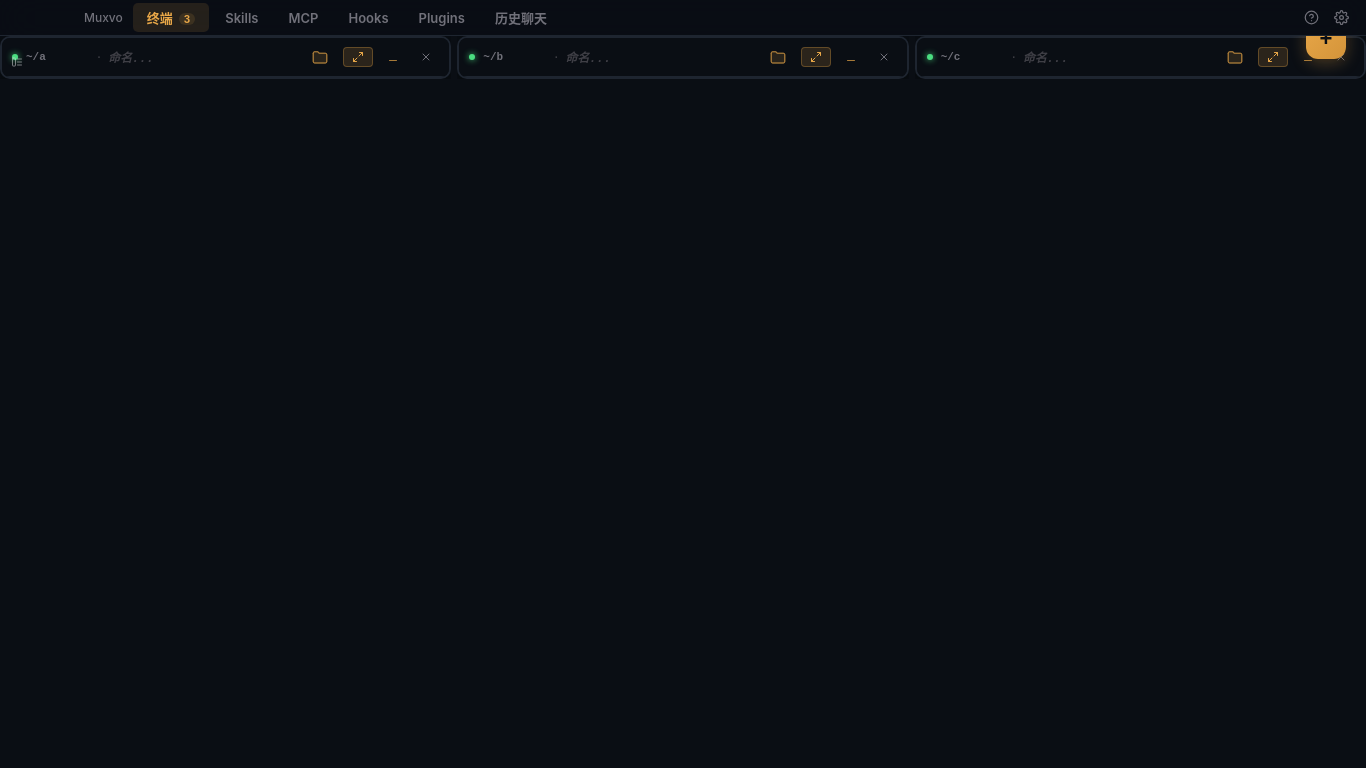
it: LiveChrome 配置面板路由（M6 批1） › CONFIG_L1_19: 终端态无 overlay，点配置 tab → overlay 挂载 + activeTab 高亮
Click the button with class "menu-bar__tab" showing "Skills" at (242, 18), box [211, 3, 272, 32]
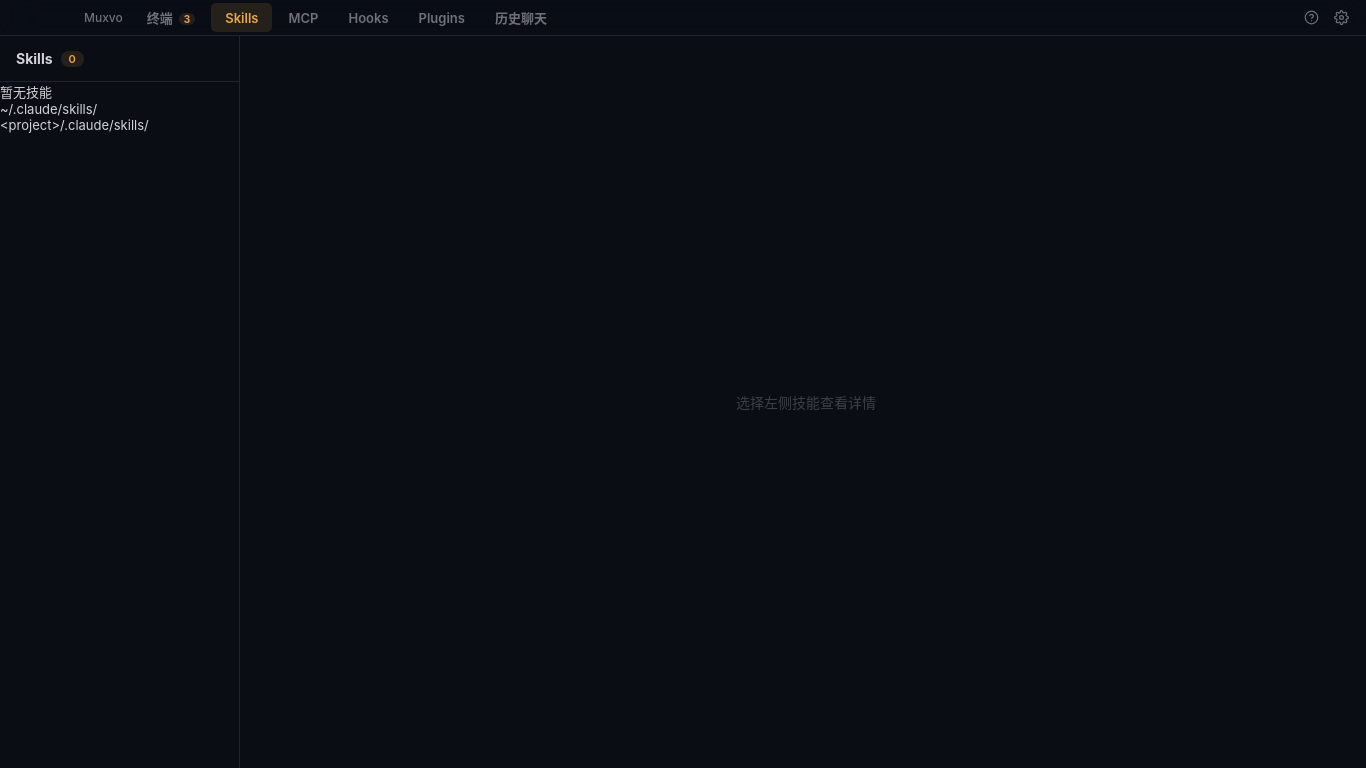
Result: the element with class "live-panel-overlay" is shown
